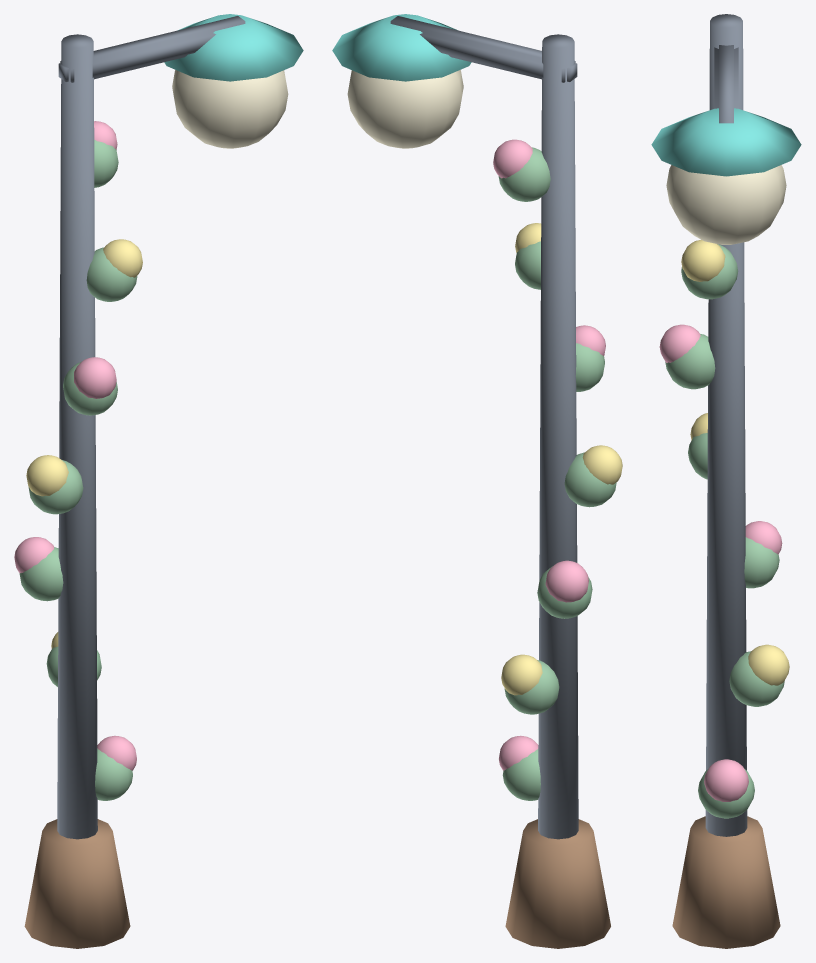
The model's file is FlowerLampPost.fbx.
The picture shows the model from 3 angles, left to right: view 1: azimuth 30°, elevation 25°; view 2: azimuth 150°, elevation 25°; view 3: azimuth 270°, elevation 25°; orthographic projection. The views are drawn at different scales.
Visible parts, largest first — view 1: FlowerLampPost; view 2: FlowerLampPost; view 3: FlowerLampPost.
Boxes of the visible parts, x1,y1,x2,y2 form: FlowerLampPost: (14,14,303,948); FlowerLampPost: (332,14,622,948); FlowerLampPost: (651,14,801,948).
Size of the model in its own units: 1.06 by 3.33 by 0.5.
